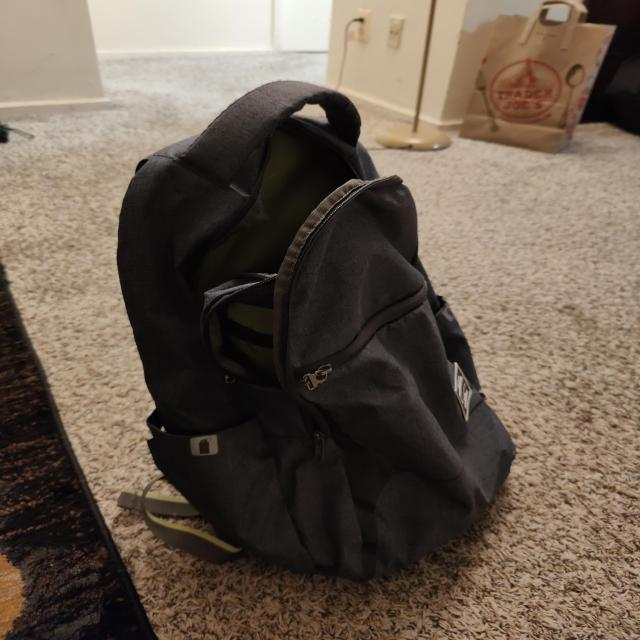bag: (120, 87, 488, 544)
